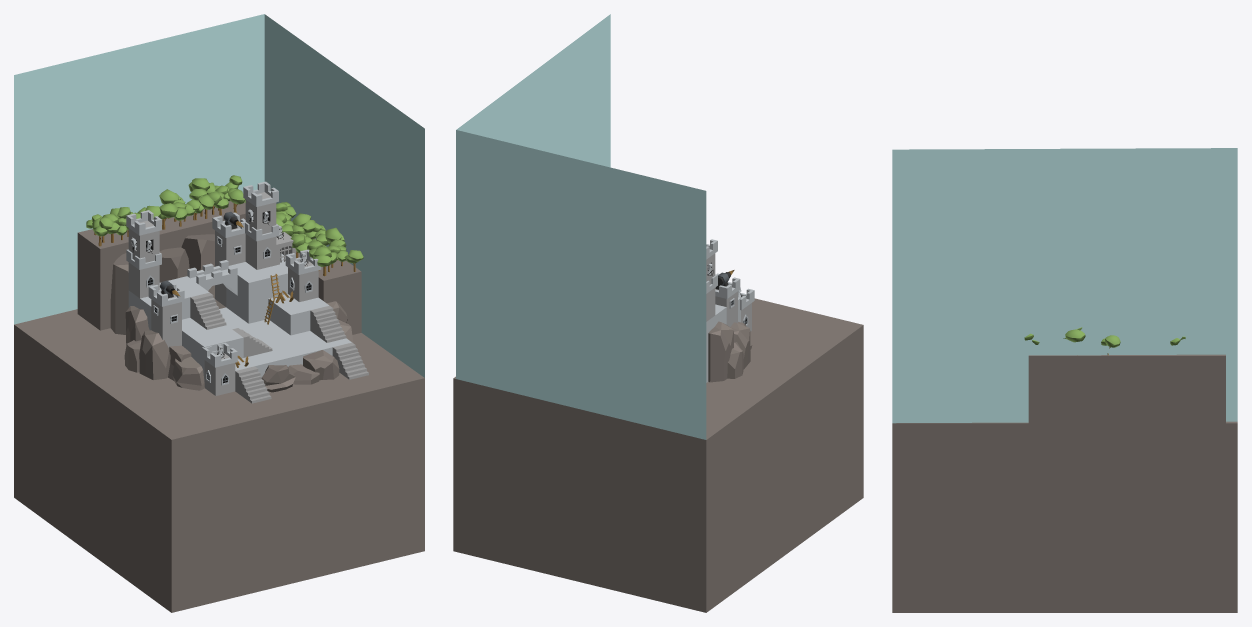
File: castle_disaster_mockup1.FBX
3 renders of one model, left to right at view 1: azimuth 30°, elevation 25°; view 2: azimuth 150°, elevation 25°; view 3: azimuth 270°, elevation 25°, orthographic. The views are drawn at different scales.
Visible parts, largest first — view 1: game_backdrop, tree_deco, defense_tower, base_level, rocks_deco, stairs_ladder_bridges; view 2: game_backdrop, rocks_deco, defense_tower; view 3: game_backdrop, tree_deco.
Part boxes in pixels (x1=…): game_backdrop: x1=14, y1=14, x2=424, y2=612; tree_deco: x1=77, y1=175, x2=363, y2=334; defense_tower: x1=126, y1=181, x2=321, y2=395; base_level: x1=128, y1=253, x2=351, y2=381; rocks_deco: x1=110, y1=234, x2=353, y2=392; stairs_ladder_bridges: x1=187, y1=260, x2=368, y2=403; game_backdrop: x1=453, y1=14, x2=863, y2=612; rocks_deco: x1=708, y1=321, x2=752, y2=382; defense_tower: x1=706, y1=239, x2=754, y2=331; game_backdrop: x1=892, y1=148, x2=1237, y2=612; tree_deco: x1=1024, y1=327, x2=1225, y2=423.
Bounding box in the file's own units: 66.29 × 70 × 104.
